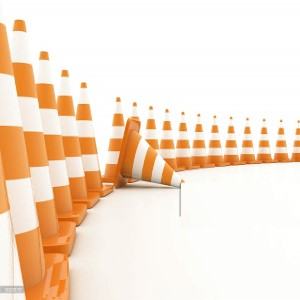traffic cone: (1, 22, 70, 300), (1, 19, 80, 256), (12, 51, 85, 226), (38, 69, 101, 208), (62, 82, 114, 197), (112, 117, 183, 191), (97, 96, 138, 183), (137, 106, 166, 174), (158, 109, 184, 171), (173, 110, 200, 169), (127, 102, 146, 179), (188, 114, 215, 166), (204, 113, 230, 166), (221, 115, 247, 164), (238, 116, 261, 164), (254, 118, 277, 162), (272, 117, 291, 162), (292, 115, 300, 163)
